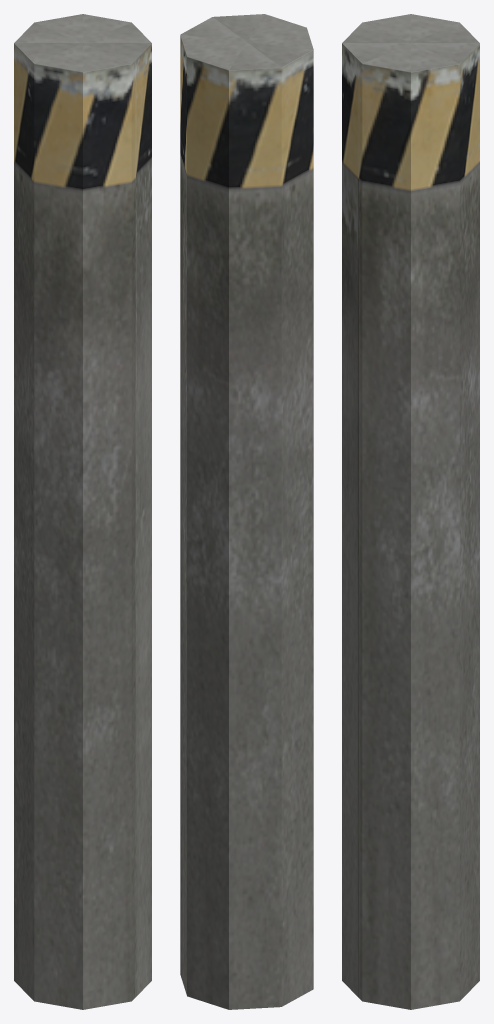
Rendered from bollard.fbx.
The picture shows the model from 3 angles, left to right: view 1: azimuth 90°, elevation 25°; view 2: azimuth 210°, elevation 25°; view 3: azimuth 270°, elevation 25°; orthographic projection.
Parts seen in each view (by area): view 1: U3DMesh; view 2: U3DMesh; view 3: U3DMesh.
Part boxes in pixels (x1,y1,x2,y2): U3DMesh: (14, 14, 151, 1009); U3DMesh: (180, 14, 313, 1009); U3DMesh: (342, 14, 479, 1009).
Size of the model in its own units: 0.3 by 2.25 by 0.3.
